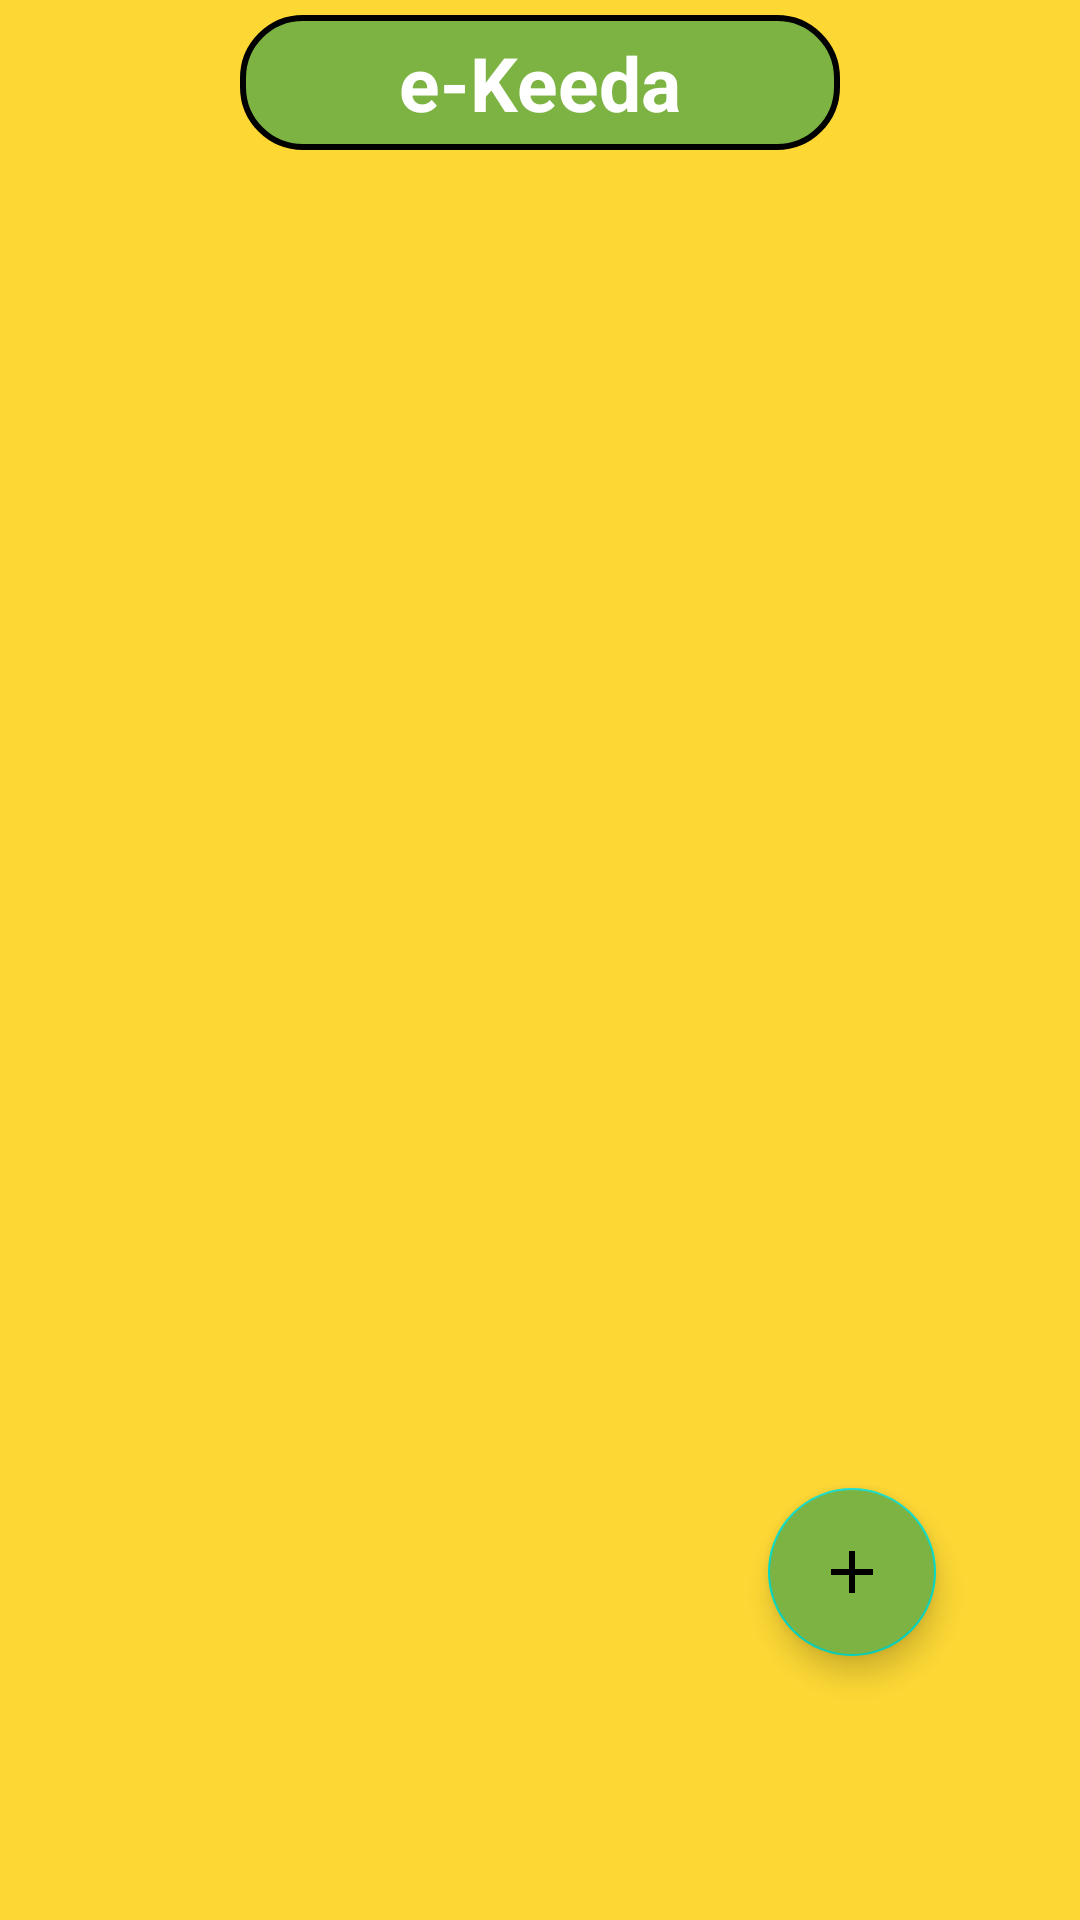

Icon click points for this 1080×1920 phone screenshot, format (x=x, y=y):
add: (x=852, y=1572)
